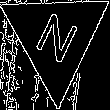N_SW: (30, 6, 83, 70)
